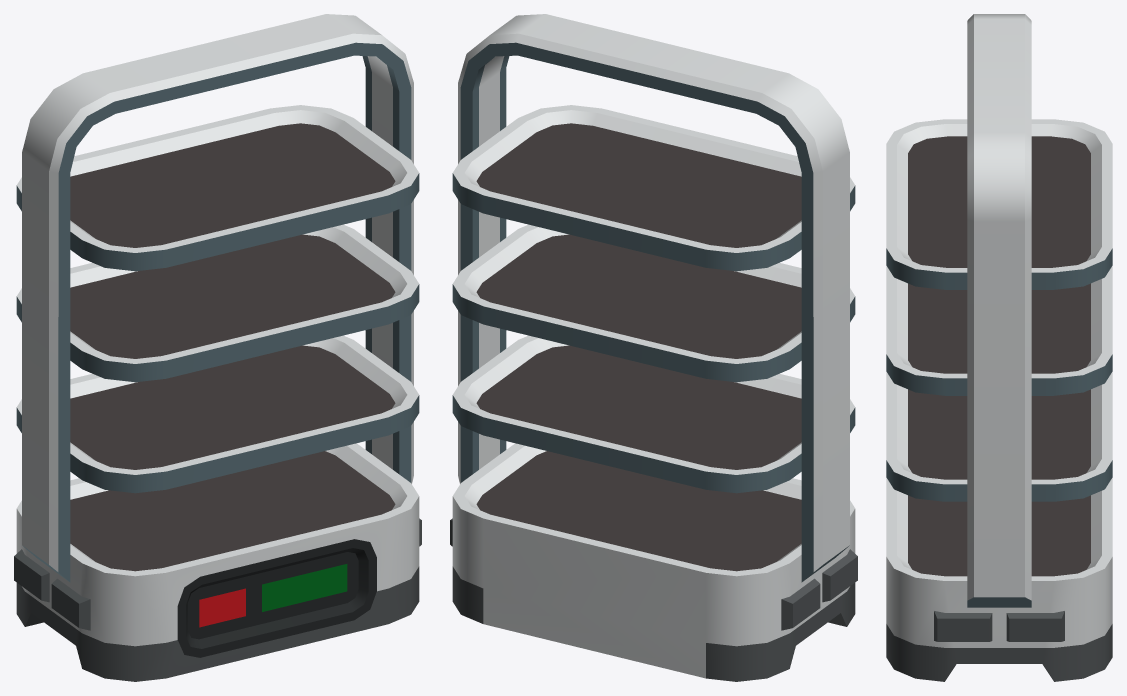
File: Mini_farm_002.fbx
3 renders of one model, left to right at view 1: azimuth 30°, elevation 25°; view 2: azimuth 150°, elevation 25°; view 3: azimuth 270°, elevation 25°, orthographic. The views are drawn at different scales.
Parts seen in each view (by area): view 1: Mini_farm_002; view 2: Mini_farm_002; view 3: Mini_farm_002.
Part boxes in pixels (x1,y1,x2,y2): Mini_farm_002: (14,14,421,681); Mini_farm_002: (450,14,857,681); Mini_farm_002: (886,14,1112,681).
Size of the model in its own units: 178 by 100 by 258.
